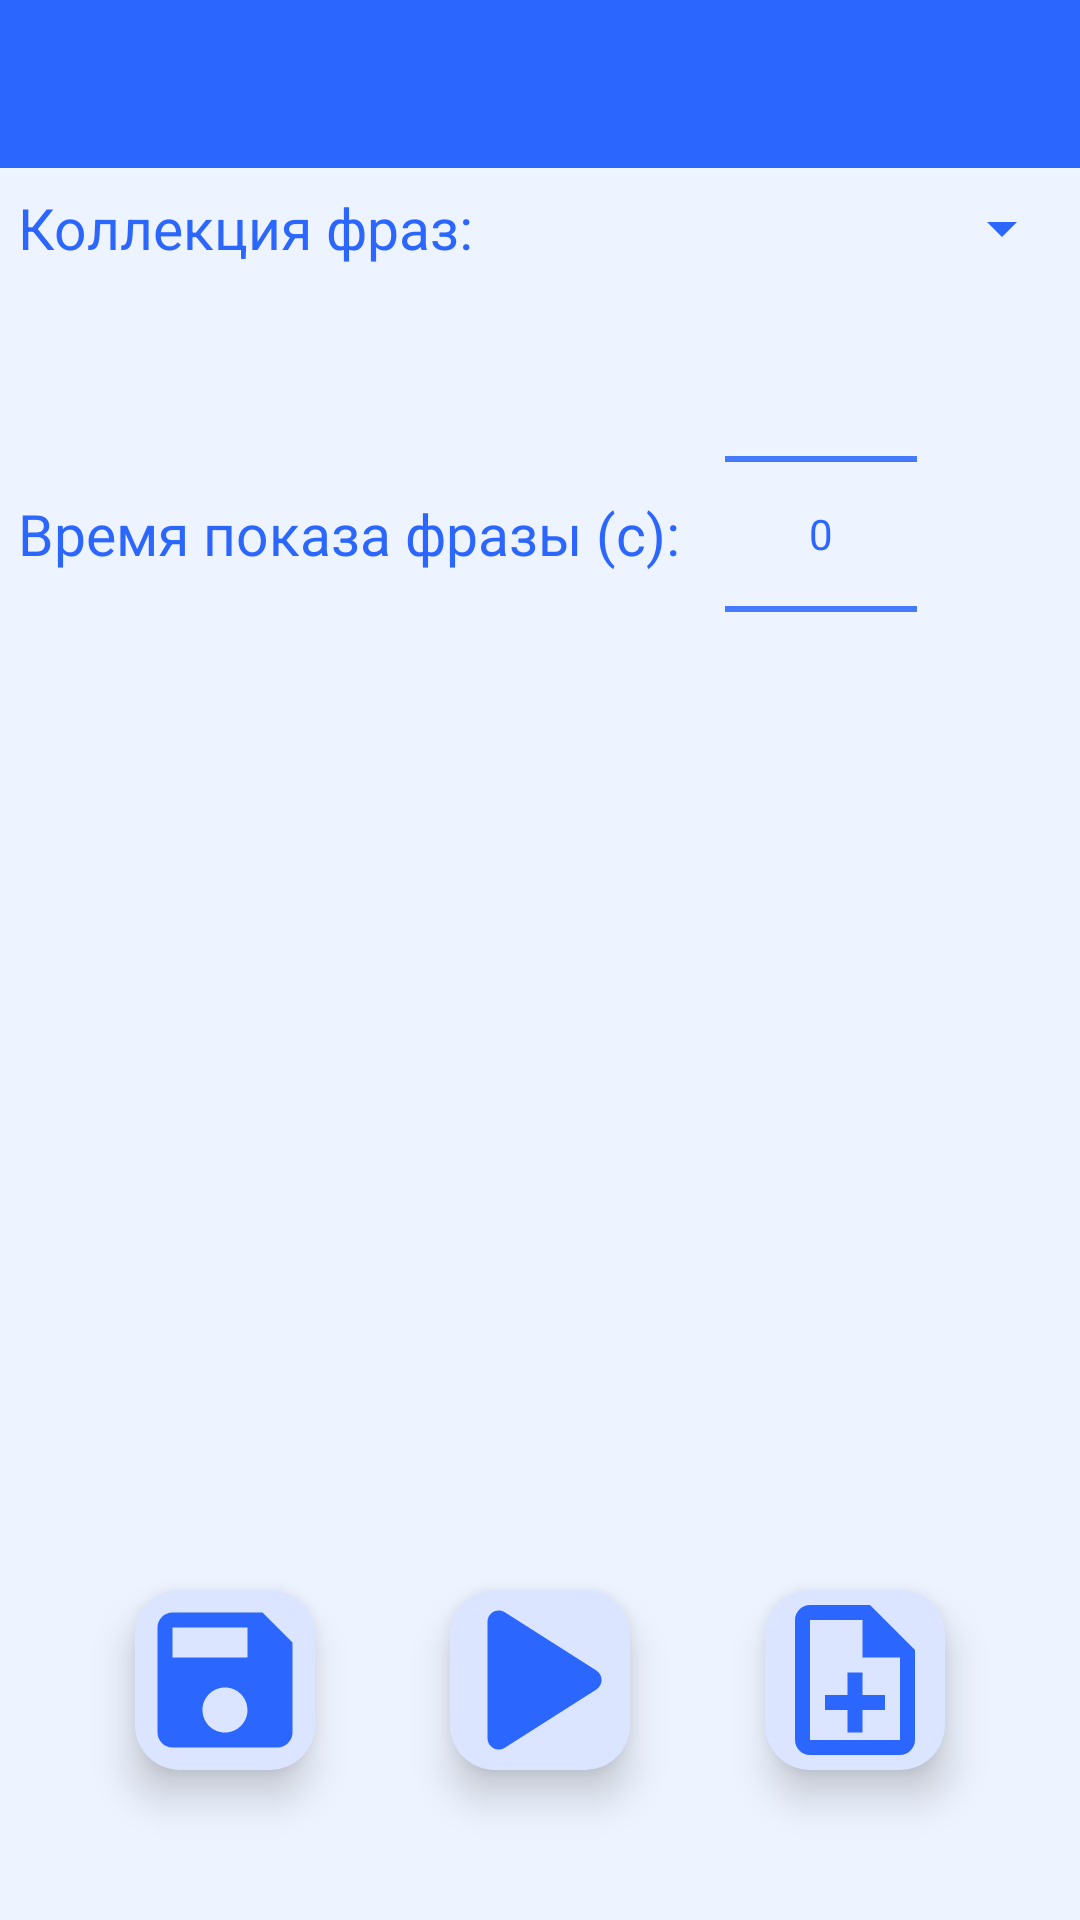

Screen size 1080*1920. Icon name, then its box in pixels as (x1, y1, x2, y2):
note add: (795, 1605, 915, 1755)
play arrow: (487, 1610, 602, 1750)
save: (157, 1612, 310, 1748)
